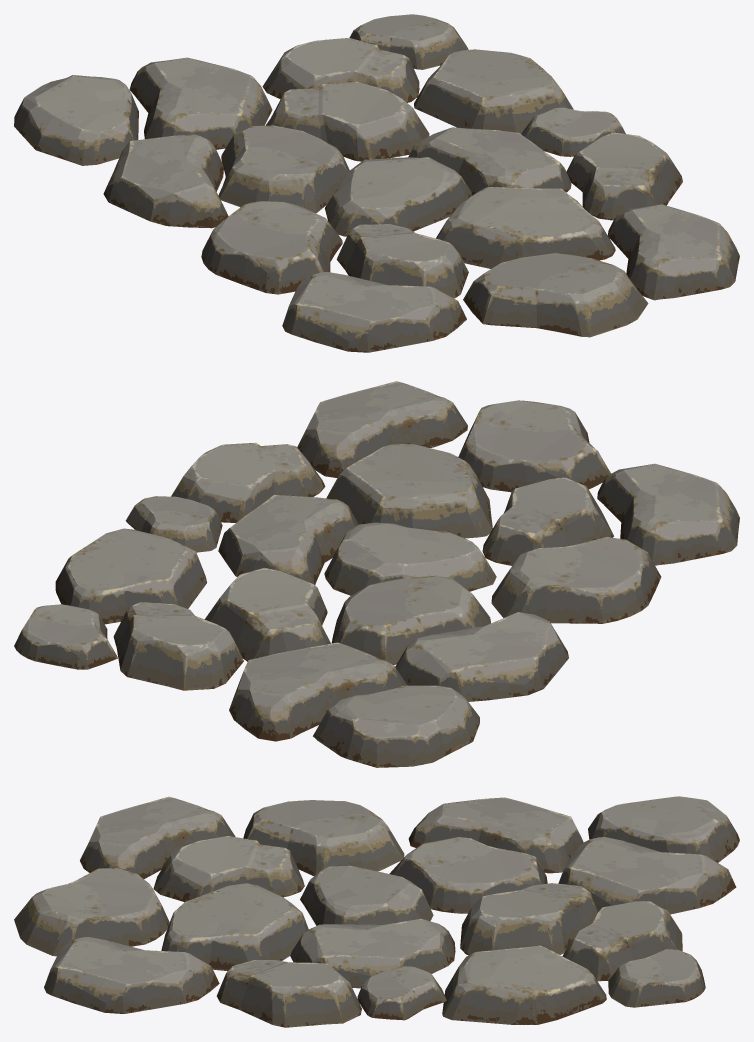
The model's file is RockPath_Round_Thin__go_coast.glb.
3 views of the same model, one above another, from view 1: azimuth 30°, elevation 25°; view 2: azimuth 150°, elevation 25°; view 3: azimuth 270°, elevation 25° (orthographic). The views are drawn at different scales.
Visible parts, largest first — view 1: RockPath_Round_Thin; view 2: RockPath_Round_Thin; view 3: RockPath_Round_Thin.
Part boxes in pixels (x1,y1,x2,y2): RockPath_Round_Thin: (14,14,739,352); RockPath_Round_Thin: (14,381,739,767); RockPath_Round_Thin: (14,796,739,1027).
Size of the model in its own units: 1.46 by 0.1103 by 2.09.
1 material, 1 textured.
